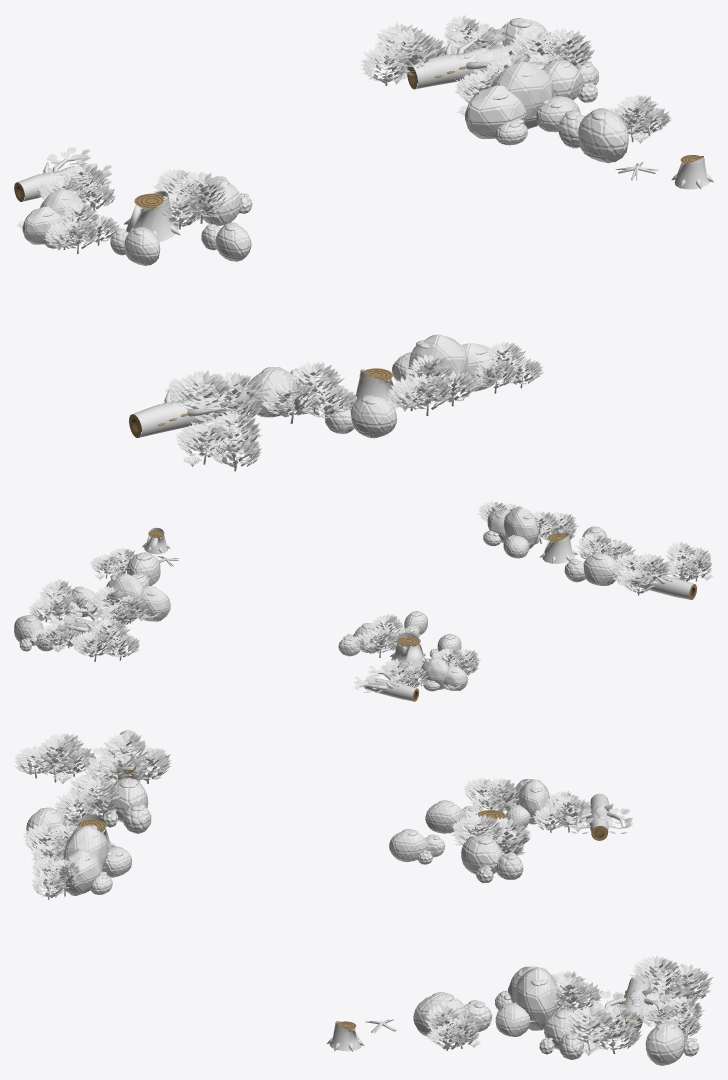
Rendered from SM_NW_Nature_3_0_Macro.fbx.
3 renders of one model, top to bottom at view 1: azimuth 30°, elevation 25°; view 2: azimuth 150°, elevation 25°; view 3: azimuth 270°, elevation 25°, orthographic. The views are drawn at different scales.
Parts seen in each view (by area): view 1: SM_NW_Nature_3_0_Macro; view 2: SM_NW_Nature_3_0_Macro; view 3: SM_NW_Nature_3_0_Macro.
Boxes of the visible parts, x1,y1,x2,y2 form: SM_NW_Nature_3_0_Macro: [14, 15, 713, 471]; SM_NW_Nature_3_0_Macro: [14, 501, 712, 701]; SM_NW_Nature_3_0_Macro: [14, 730, 712, 1065].
Size of the model in its own units: 2845 by 2702 by 268.
